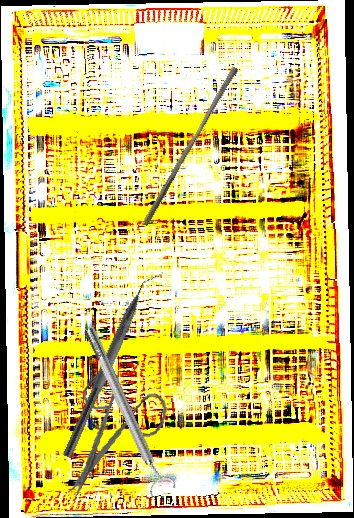Chopper: (62, 264, 165, 464)
Fixation Ring: (77, 322, 177, 499)
Iris Scissors: (50, 364, 178, 501)
Pusher: (142, 63, 239, 230)
